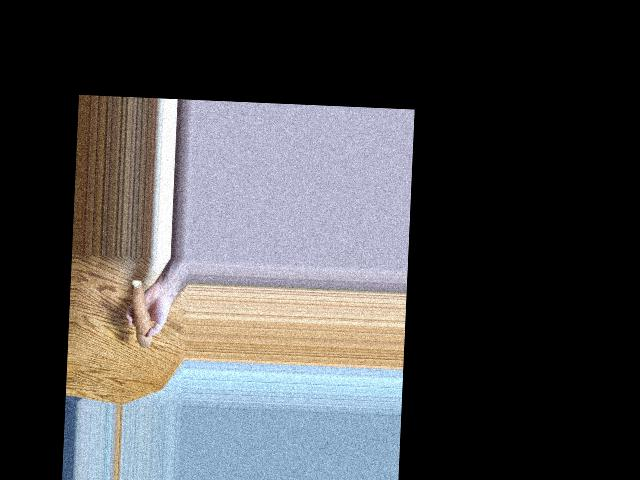sweet_potato: (127, 274, 151, 350)
